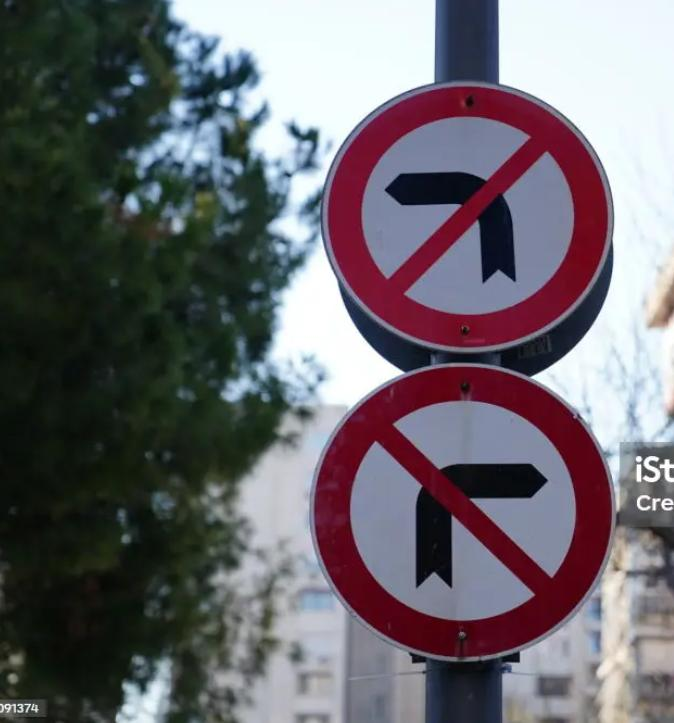road_sign: (308, 363, 617, 664), (322, 81, 615, 352)
